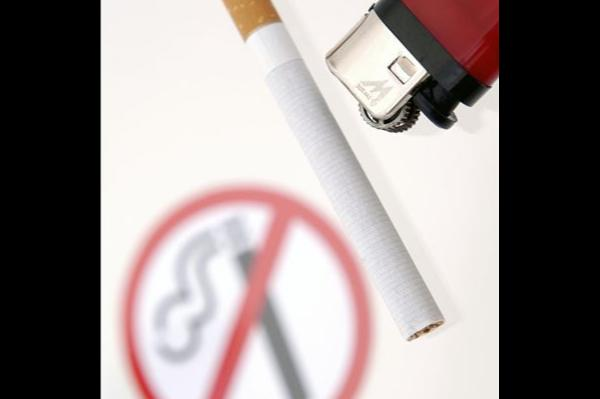Cigarette: (182, 0, 447, 339)
